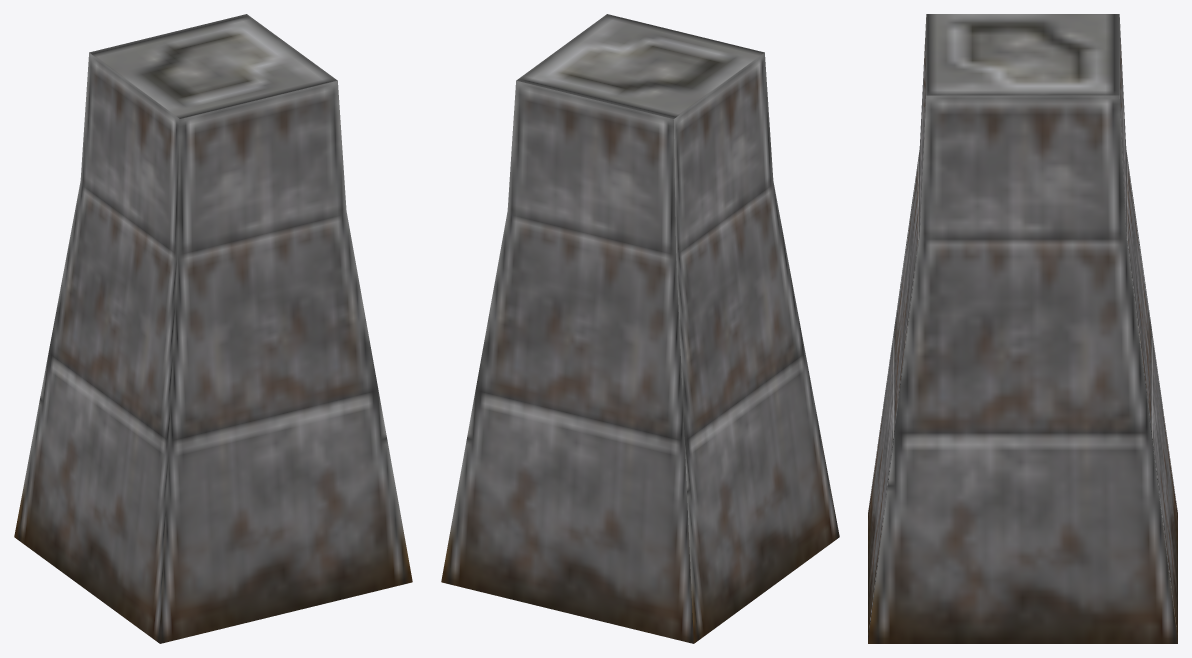
The model's file is s_mediumpost.glb.
3 renders of one model, left to right at view 1: azimuth 30°, elevation 25°; view 2: azimuth 150°, elevation 25°; view 3: azimuth 270°, elevation 25°, orthographic. The views are drawn at different scales.
Visible parts, largest first — view 1: S_MediumWall; view 2: S_MediumWall; view 3: S_MediumWall.
Part boxes in pixels (box(x1,y1,x2,y2)): S_MediumWall: box(14, 14, 412, 643); S_MediumWall: box(441, 14, 839, 643); S_MediumWall: box(868, 14, 1177, 643).
Size of the model in its own units: 6 by 11.19 by 6.
1 material, 1 textured.
